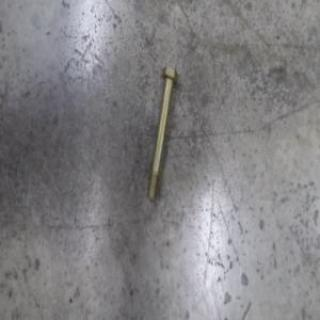Bolttrack_idkeyframe: (146, 64, 178, 201)
